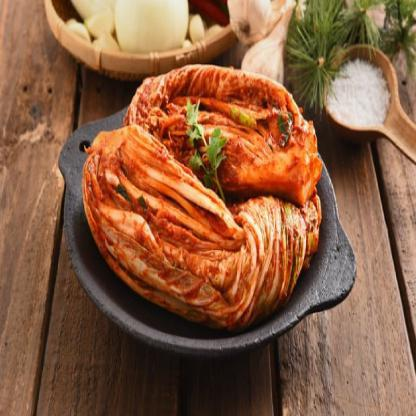kimchi: (76, 124, 337, 326), (120, 57, 330, 207)
